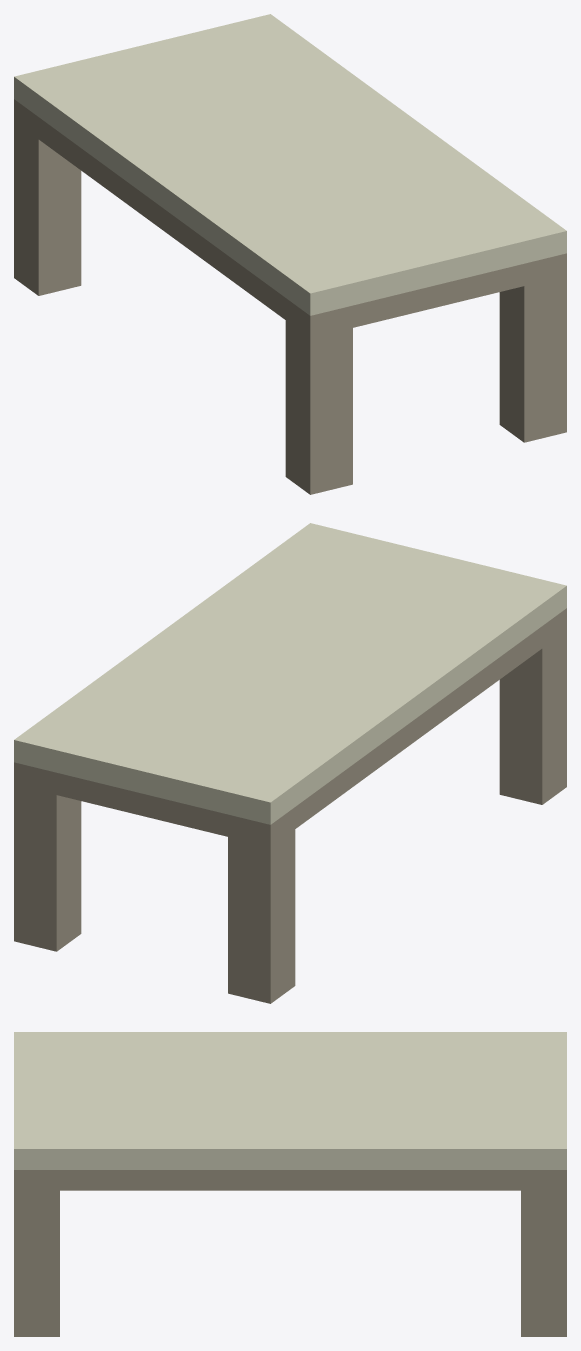
File: mesa_cocina_tilo_01.glb
3 renders of one model, top to bottom at view 1: azimuth 30°, elevation 25°; view 2: azimuth 150°, elevation 25°; view 3: azimuth 270°, elevation 25°, orthographic. The views are drawn at different scales.
Parts seen in each view (by area): view 1: mesa_cocina_tilo; view 2: mesa_cocina_tilo; view 3: mesa_cocina_tilo.
Boxes of the visible parts, <box> form: mesa_cocina_tilo: <box>14,14,566,494</box>; mesa_cocina_tilo: <box>14,523,566,1003</box>; mesa_cocina_tilo: <box>14,1032,566,1336</box>.
Bounding box in the file's own units: 1 × 0.75 × 2.
